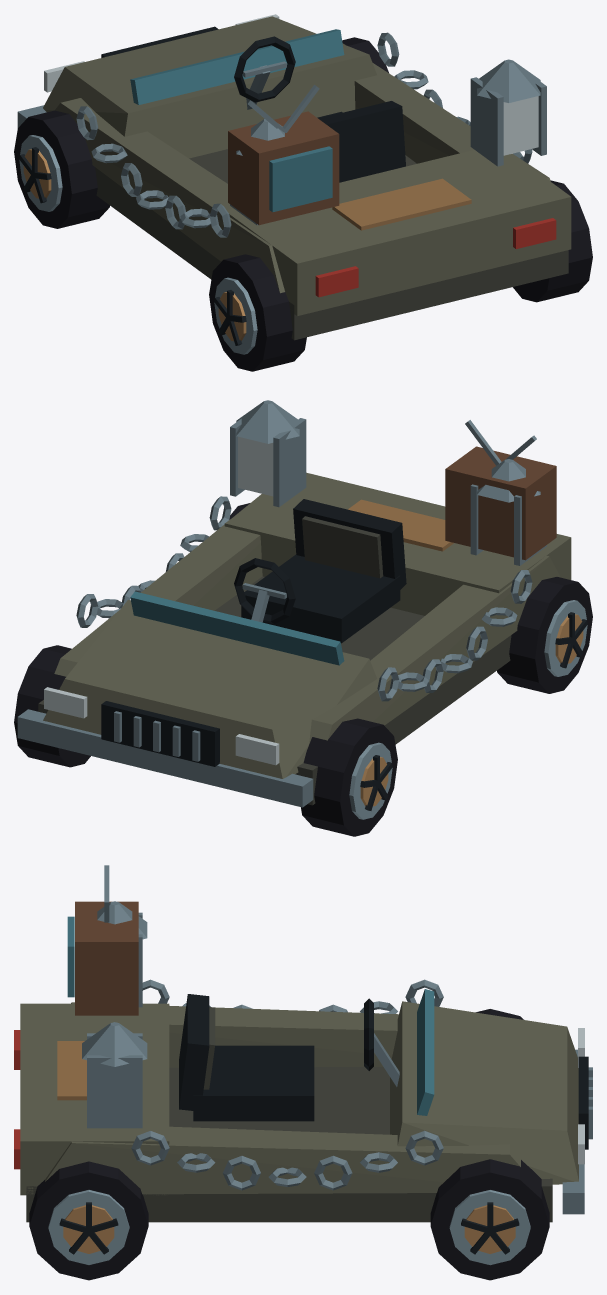
Rendered from kart.glb.
The picture shows the model from 3 angles, top to bottom: view 1: azimuth 30°, elevation 25°; view 2: azimuth 150°, elevation 25°; view 3: azimuth 270°, elevation 25°; orthographic projection. The views are drawn at different scales.
Parts seen in each view (by area): view 1: identity-sedan-sedan-road-car-body, identity-sedan-motif-television, wheel-front-left, wheel-rear-left, identity-sedan-motif-lanterns, identity-sedan-driver-cockpit, identity-sedan-motif-chains, wheel-rear-right, wheel-front-right; view 2: identity-sedan-sedan-road-car-body, identity-sedan-driver-cockpit, identity-sedan-motif-television, identity-sedan-motif-lanterns, wheel-front-left, wheel-rear-left, identity-sedan-motif-chains, wheel-front-right; view 3: identity-sedan-sedan-road-car-body, identity-sedan-driver-cockpit, wheel-front-right, wheel-rear-right, identity-sedan-motif-television, identity-sedan-motif-lanterns, identity-sedan-motif-chains.
Part boxes in pixels (<box>): identity-sedan-sedan-road-car-body: <box>17,14,571,340</box>; identity-sedan-motif-television: <box>228,85,339,225</box>; wheel-front-left: <box>14,110,109,228</box>; wheel-rear-left: <box>209,254,306,371</box>; identity-sedan-motif-lanterns: <box>230,59,546,225</box>; identity-sedan-driver-cockpit: <box>234,36,405,182</box>; identity-sedan-motif-chains: <box>76,32,532,237</box>; wheel-rear-right: <box>513,180,592,302</box>; wheel-front-right: <box>342,37,388,72</box>; identity-sedan-sedan-road-car-body: <box>17,472,571,807</box>; identity-sedan-driver-cockpit: <box>234,499,406,643</box>; identity-sedan-motif-television: <box>445,420,556,560</box>; identity-sedan-motif-lanterns: <box>230,400,546,565</box>; wheel-front-left: <box>301,718,397,836</box>; wheel-rear-left: <box>497,577,592,693</box>; identity-sedan-motif-chains: <box>76,496,532,701</box>; wheel-front-right: <box>14,645,90,767</box>; identity-sedan-sedan-road-car-body: <box>14,989,592,1222</box>; identity-sedan-driver-cockpit: <box>179,994,399,1121</box>; wheel-front-right: <box>430,1159,549,1280</box>; wheel-rear-right: <box>29,1161,148,1280</box>; identity-sedan-motif-television: <box>67,865,138,1015</box>; identity-sedan-motif-lanterns: <box>82,901,147,1128</box>; identity-sedan-motif-chains: <box>131,979,443,1190</box>.
Bounding box in the file's own units: 2.07 × 1.46 × 2.92.
